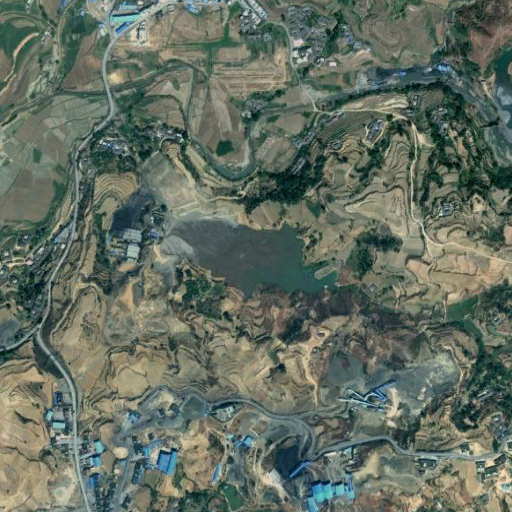tp: (163, 210, 370, 305)
